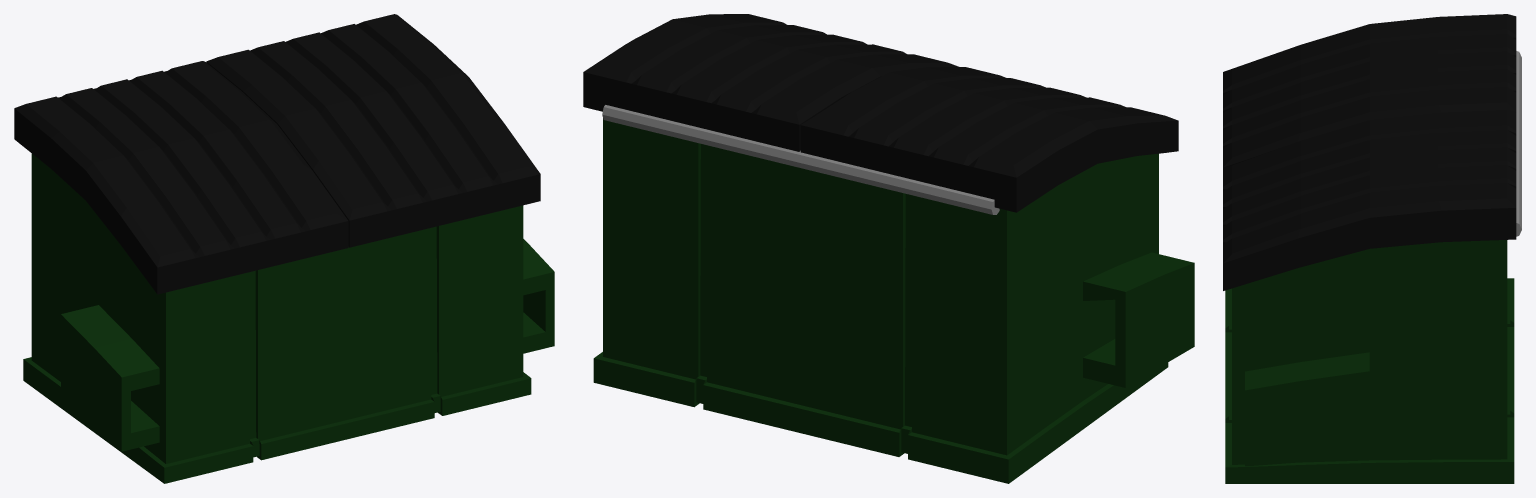
The model's file is DumpsterShut.fbx.
The picture shows the model from 3 angles, left to right: view 1: azimuth 30°, elevation 25°; view 2: azimuth 150°, elevation 25°; view 3: azimuth 270°, elevation 25°; orthographic projection. The views are drawn at different scales.
Visible parts, largest first — view 1: DumpsterShut; view 2: DumpsterShut; view 3: DumpsterShut.
Part boxes in pixels (x1,y1,x2,y2): DumpsterShut: [14, 14, 554, 483]; DumpsterShut: [583, 14, 1194, 483]; DumpsterShut: [1223, 14, 1521, 483].
Size of the model in its own units: 180 by 111 by 105.
